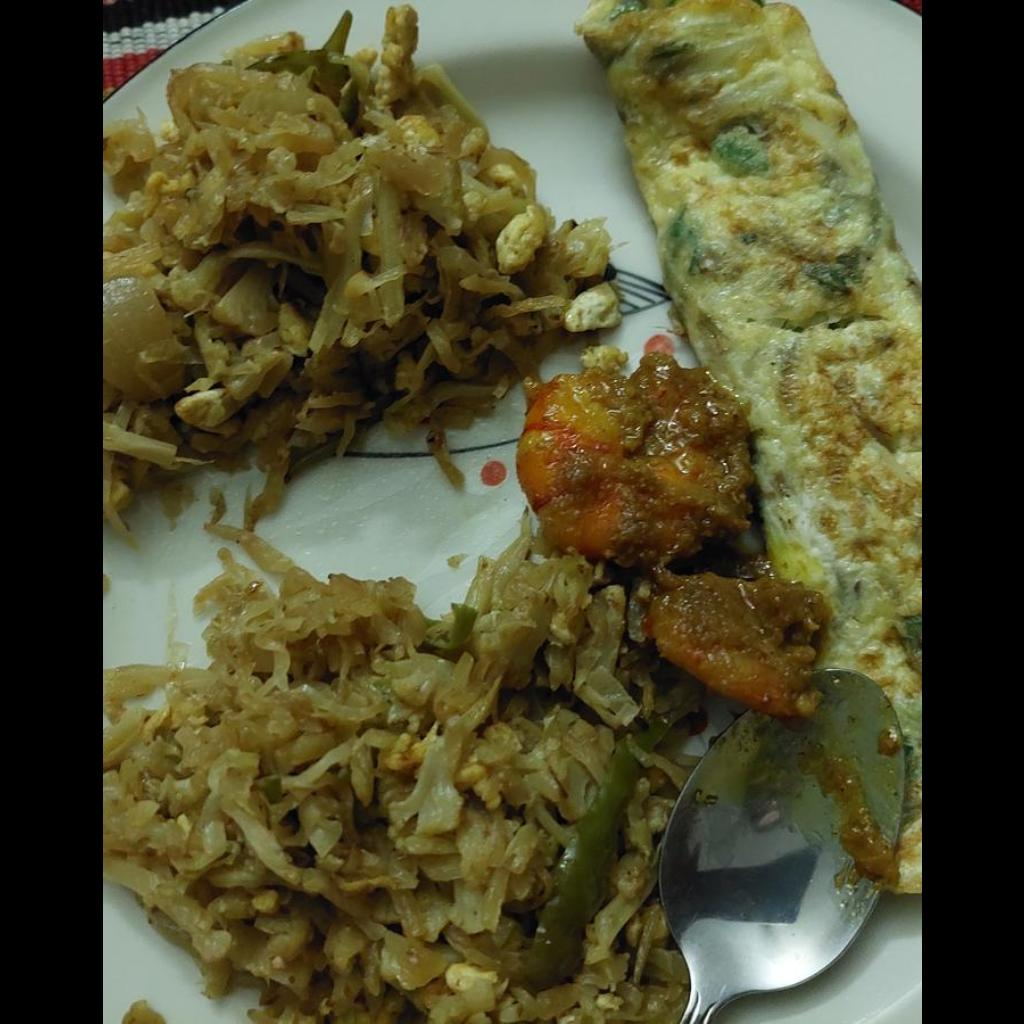egg-poached: (574, 2, 920, 891)
fish: (515, 354, 818, 705)
vegetable: (102, 7, 679, 1019)
